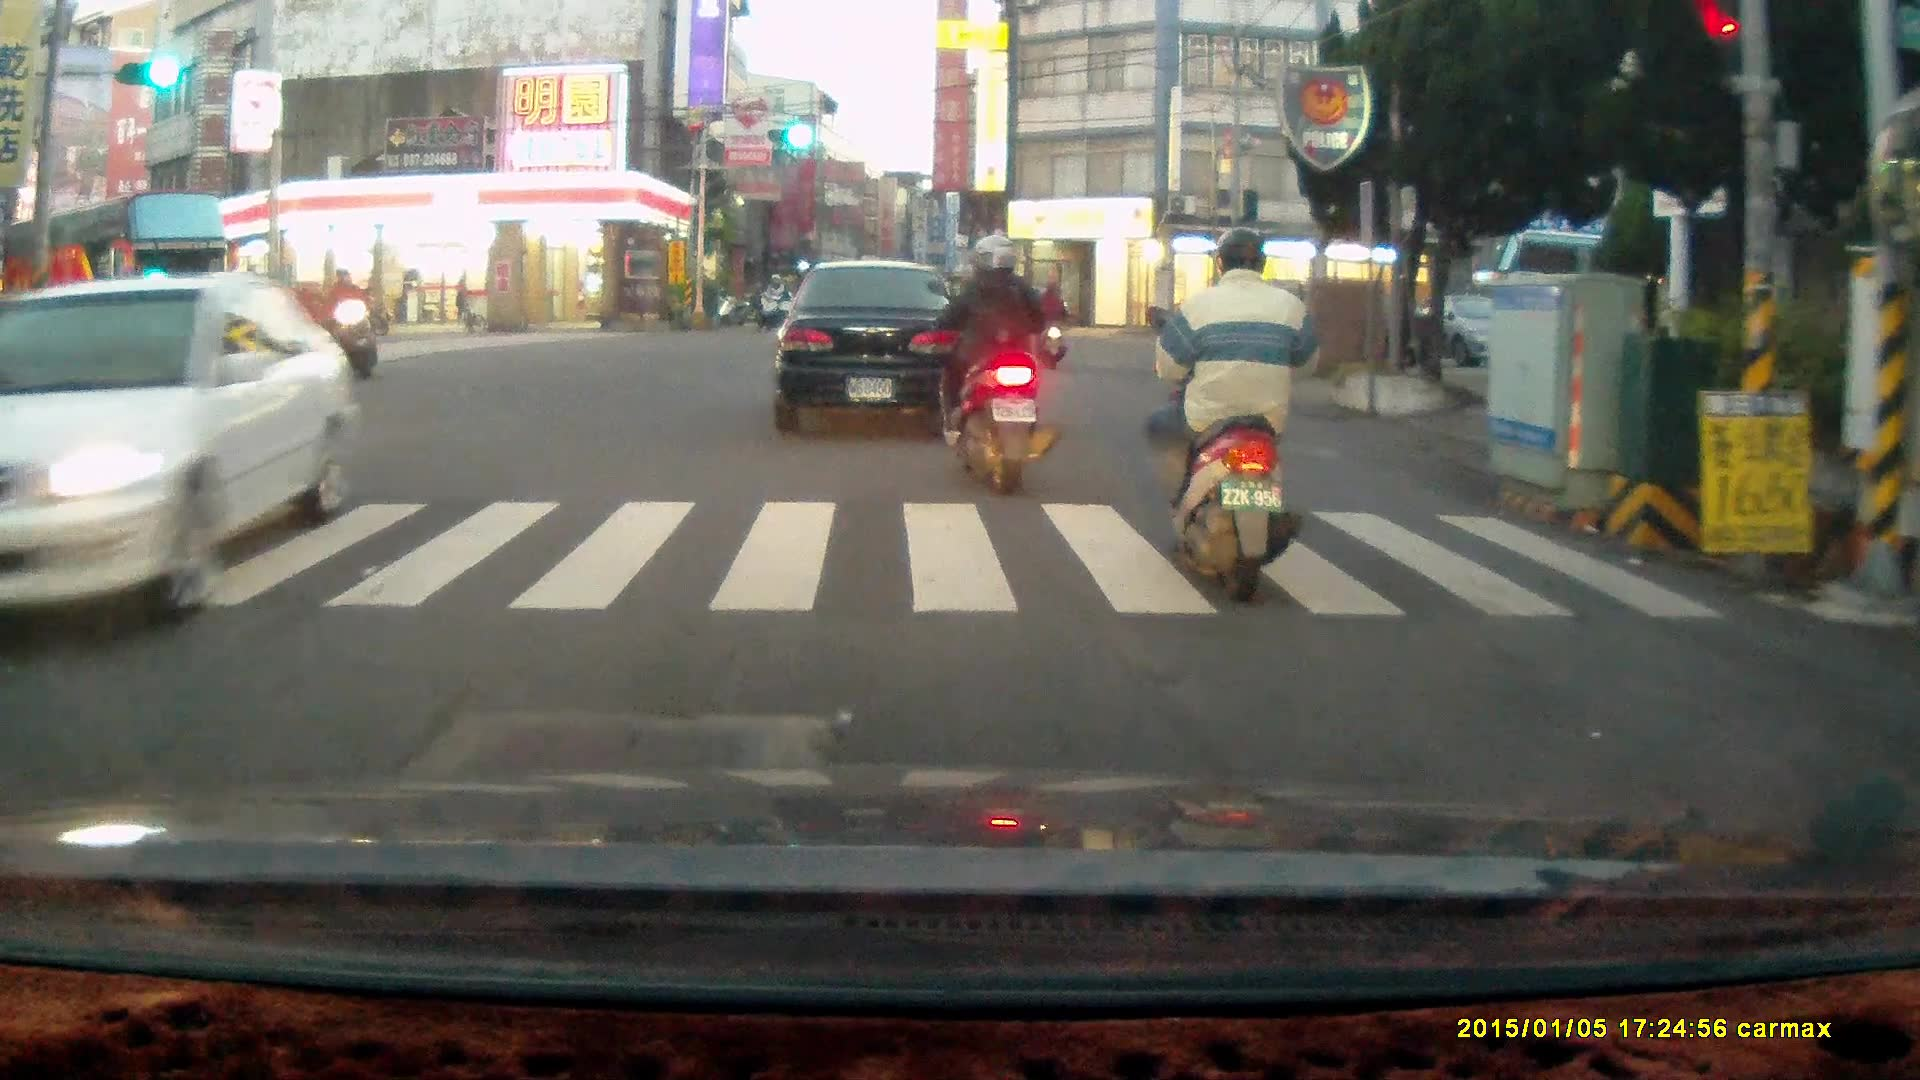rider: (1140, 226, 1307, 606), (926, 229, 1062, 496), (321, 268, 378, 383), (1021, 279, 1070, 372), (755, 272, 785, 328)
vehicle: (5, 273, 349, 680), (12, 190, 233, 354)
